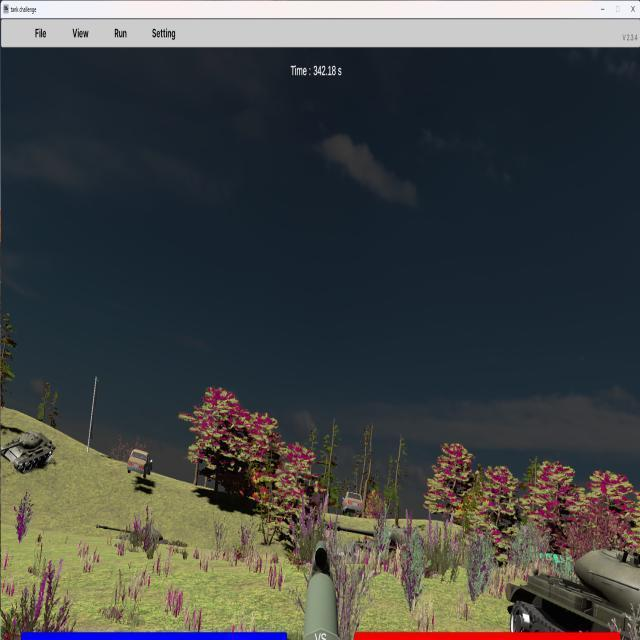Tank: (506, 546, 639, 640), (0, 430, 56, 473)
car: (127, 449, 153, 478), (342, 491, 364, 515)
